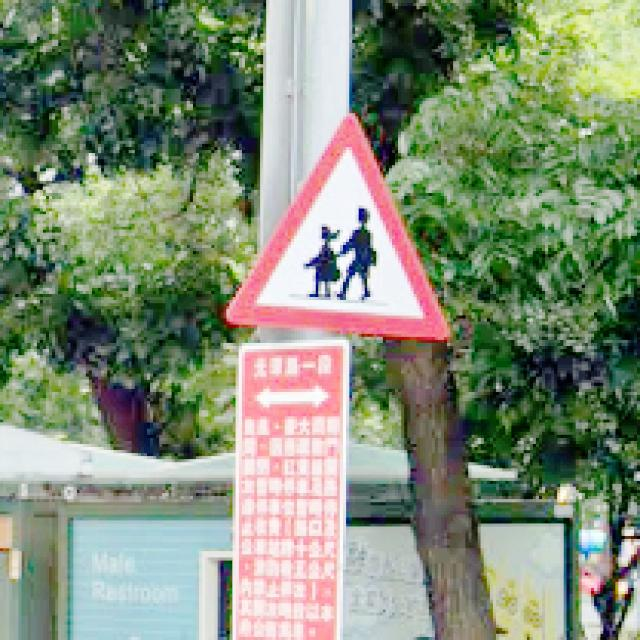childrencross: (228, 116, 447, 336)
